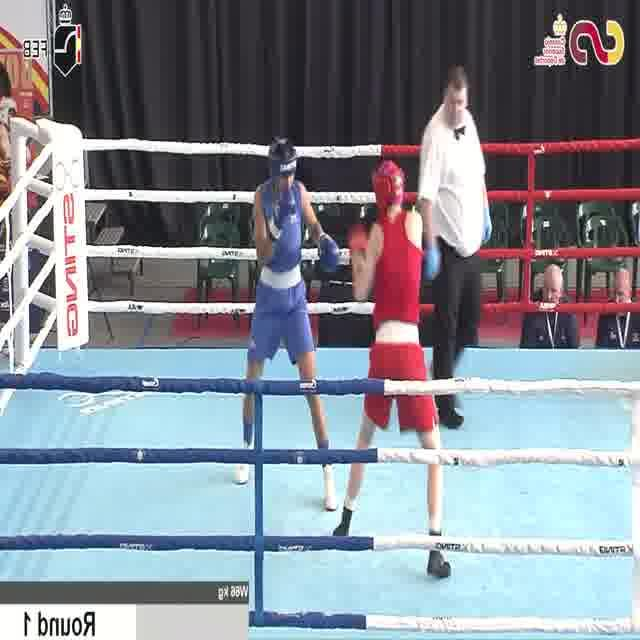blue-player: (232, 134, 343, 516)
red-player: (328, 156, 454, 582)
referee: (416, 64, 494, 434)
